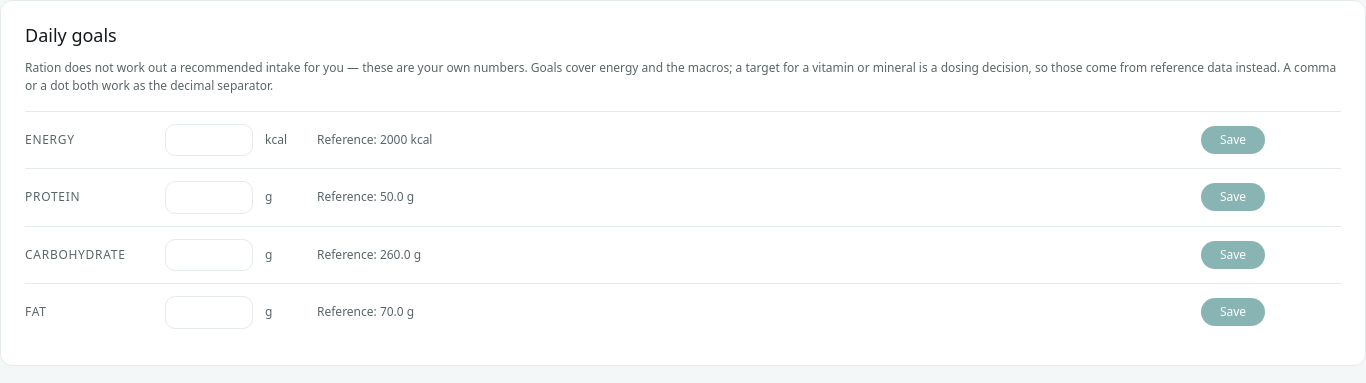
Test: GoalForm › saves a typed goal and attributes it to the user
In the field labelled "Energy": (209, 140) [165,124,253,156], type "2200"
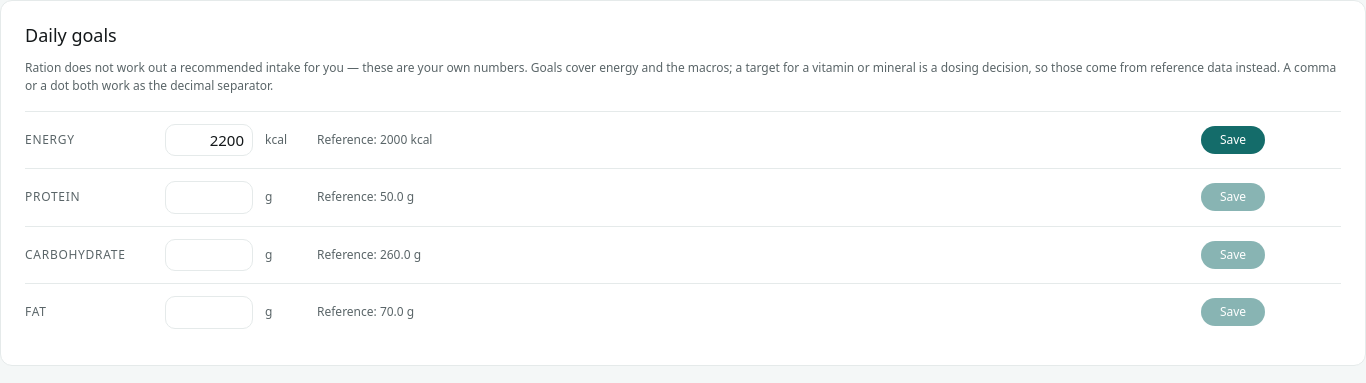
Click the button "Save" in the row of "Reference: 2000 kcal": (1233, 140) [1201,126,1265,154]
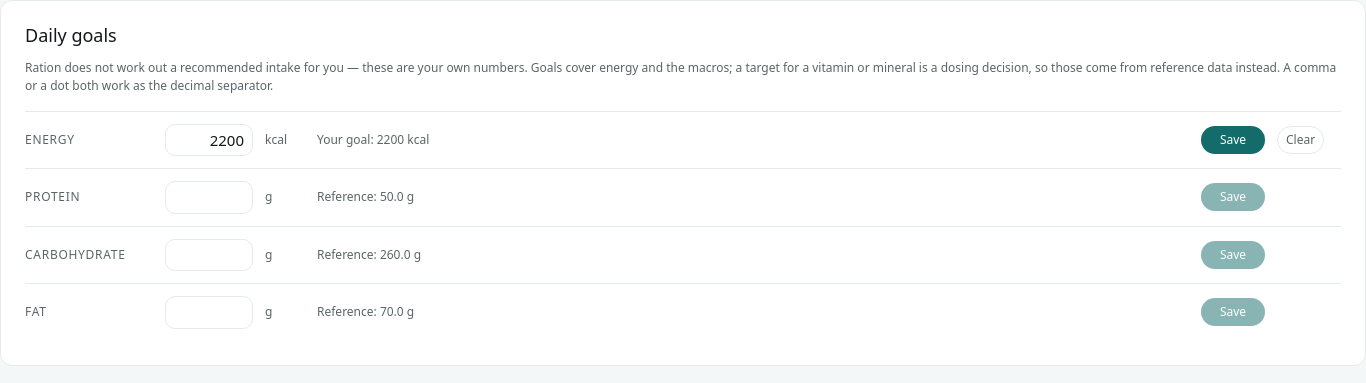
Expected: the element showing "Energy kcal Your goal: 2200 kcal Save Clear" is shown, [25,111,1341,168]
